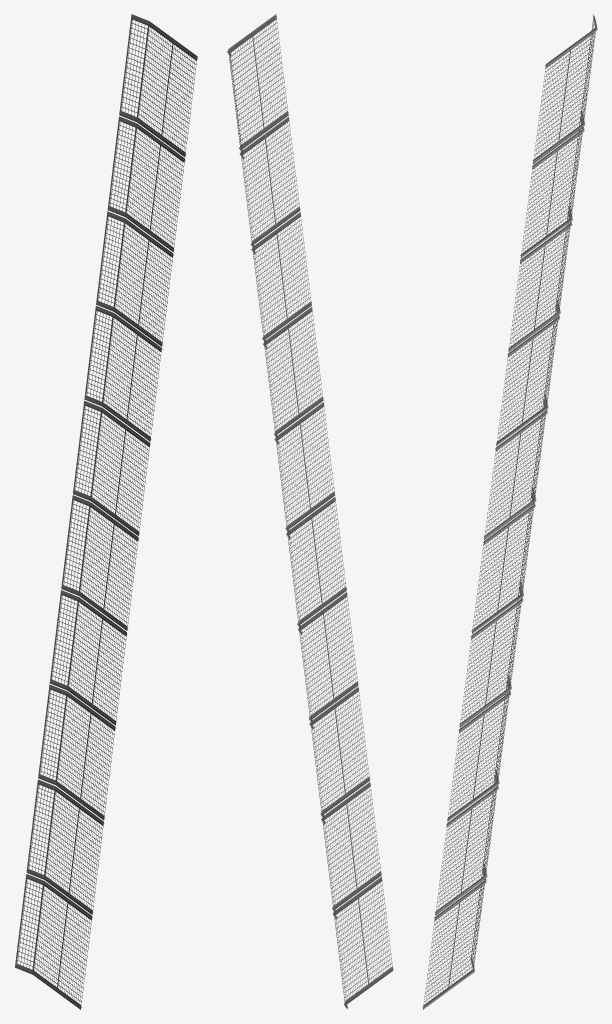
Rendered from TrackLimits.033.obj.
3 views of the same model, side by side, from view 1: azimuth 30°, elevation 25°; view 2: azimuth 150°, elevation 25°; view 3: azimuth 330°, elevation 25° (orthographic). The views are drawn at different scales.
Visible parts, largest first — view 1: TrackLimits.033_Scene.435; view 2: TrackLimits.033_Scene.435; view 3: TrackLimits.033_Scene.435.
Boxes of the visible parts, bbox=[...] form: TrackLimits.033_Scene.435: bbox=[15, 14, 198, 1009]; TrackLimits.033_Scene.435: bbox=[227, 14, 393, 1009]; TrackLimits.033_Scene.435: bbox=[422, 14, 597, 1009].
Bounding box in the file's own units: 486 × 3354 × 365.
